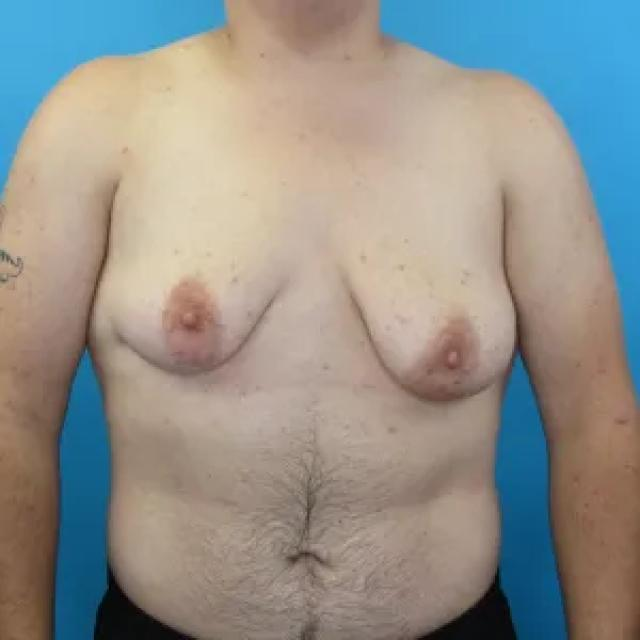Seno ileso: (327, 218, 526, 417), (100, 212, 300, 389)
